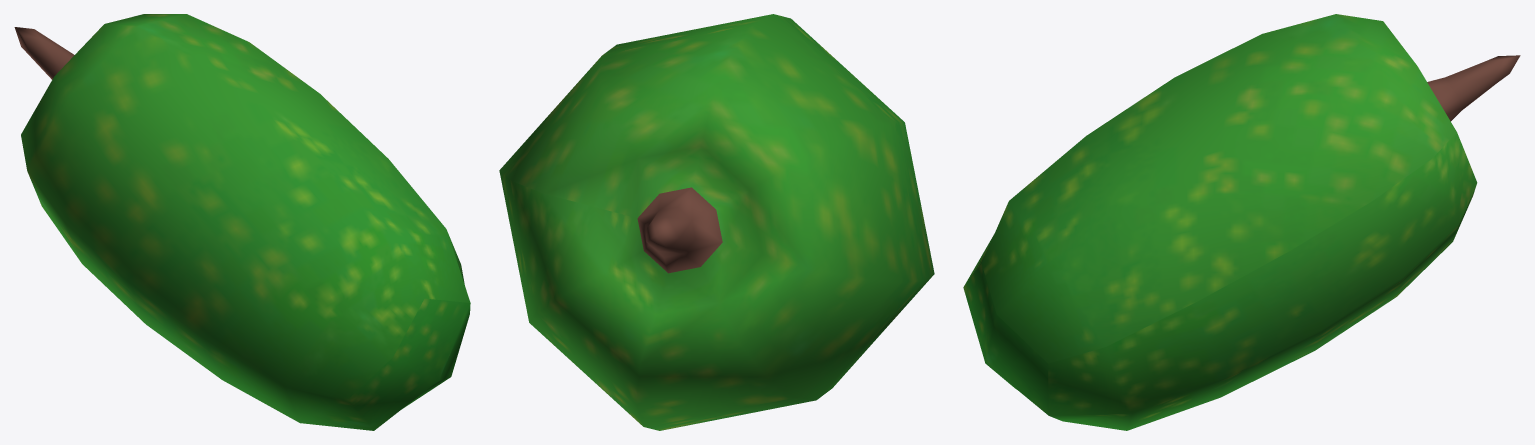
File: Bushlime (15).fbx
3 renders of one model, left to right at view 1: azimuth 30°, elevation 25°; view 2: azimuth 150°, elevation 25°; view 3: azimuth 270°, elevation 25°, orthographic. The views are drawn at different scales.
Visible parts, largest first — view 1: Bushlime; view 2: Bushlime; view 3: Bushlime.
Part boxes in pixels (x1,y1,x2,y2): Bushlime: (14, 14, 470, 430); Bushlime: (499, 14, 934, 430); Bushlime: (963, 14, 1520, 430).
Size of the model in its own units: 0.4879 by 0.5019 by 0.7096.
Materials: 1 (1 with a texture image).
